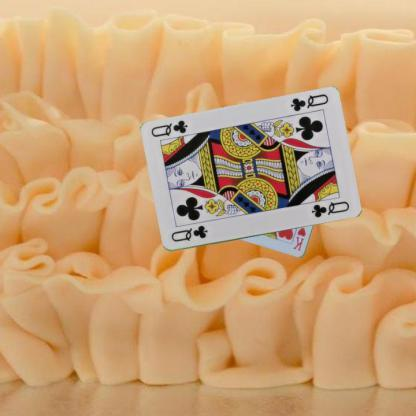Kh: (289, 224, 308, 252)
Qc: (288, 92, 330, 114), (168, 223, 209, 243)
